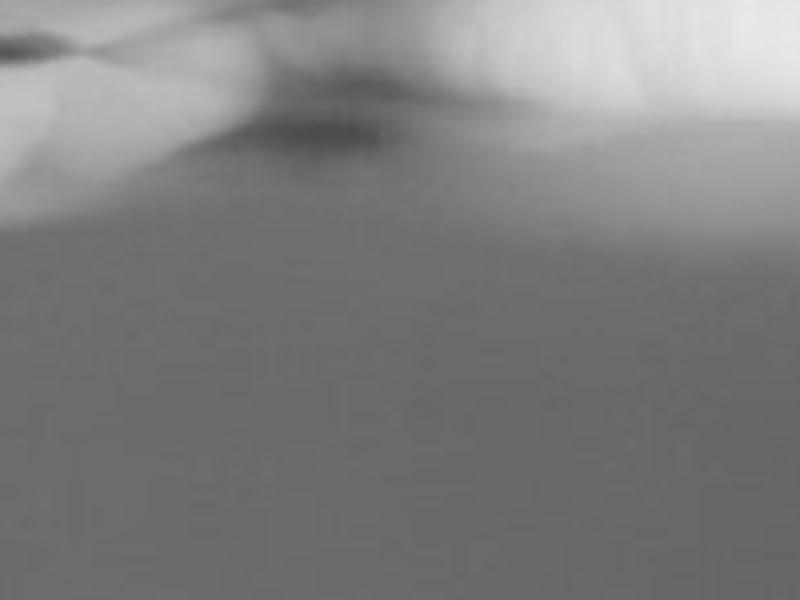defect: (1, 37, 68, 63)
